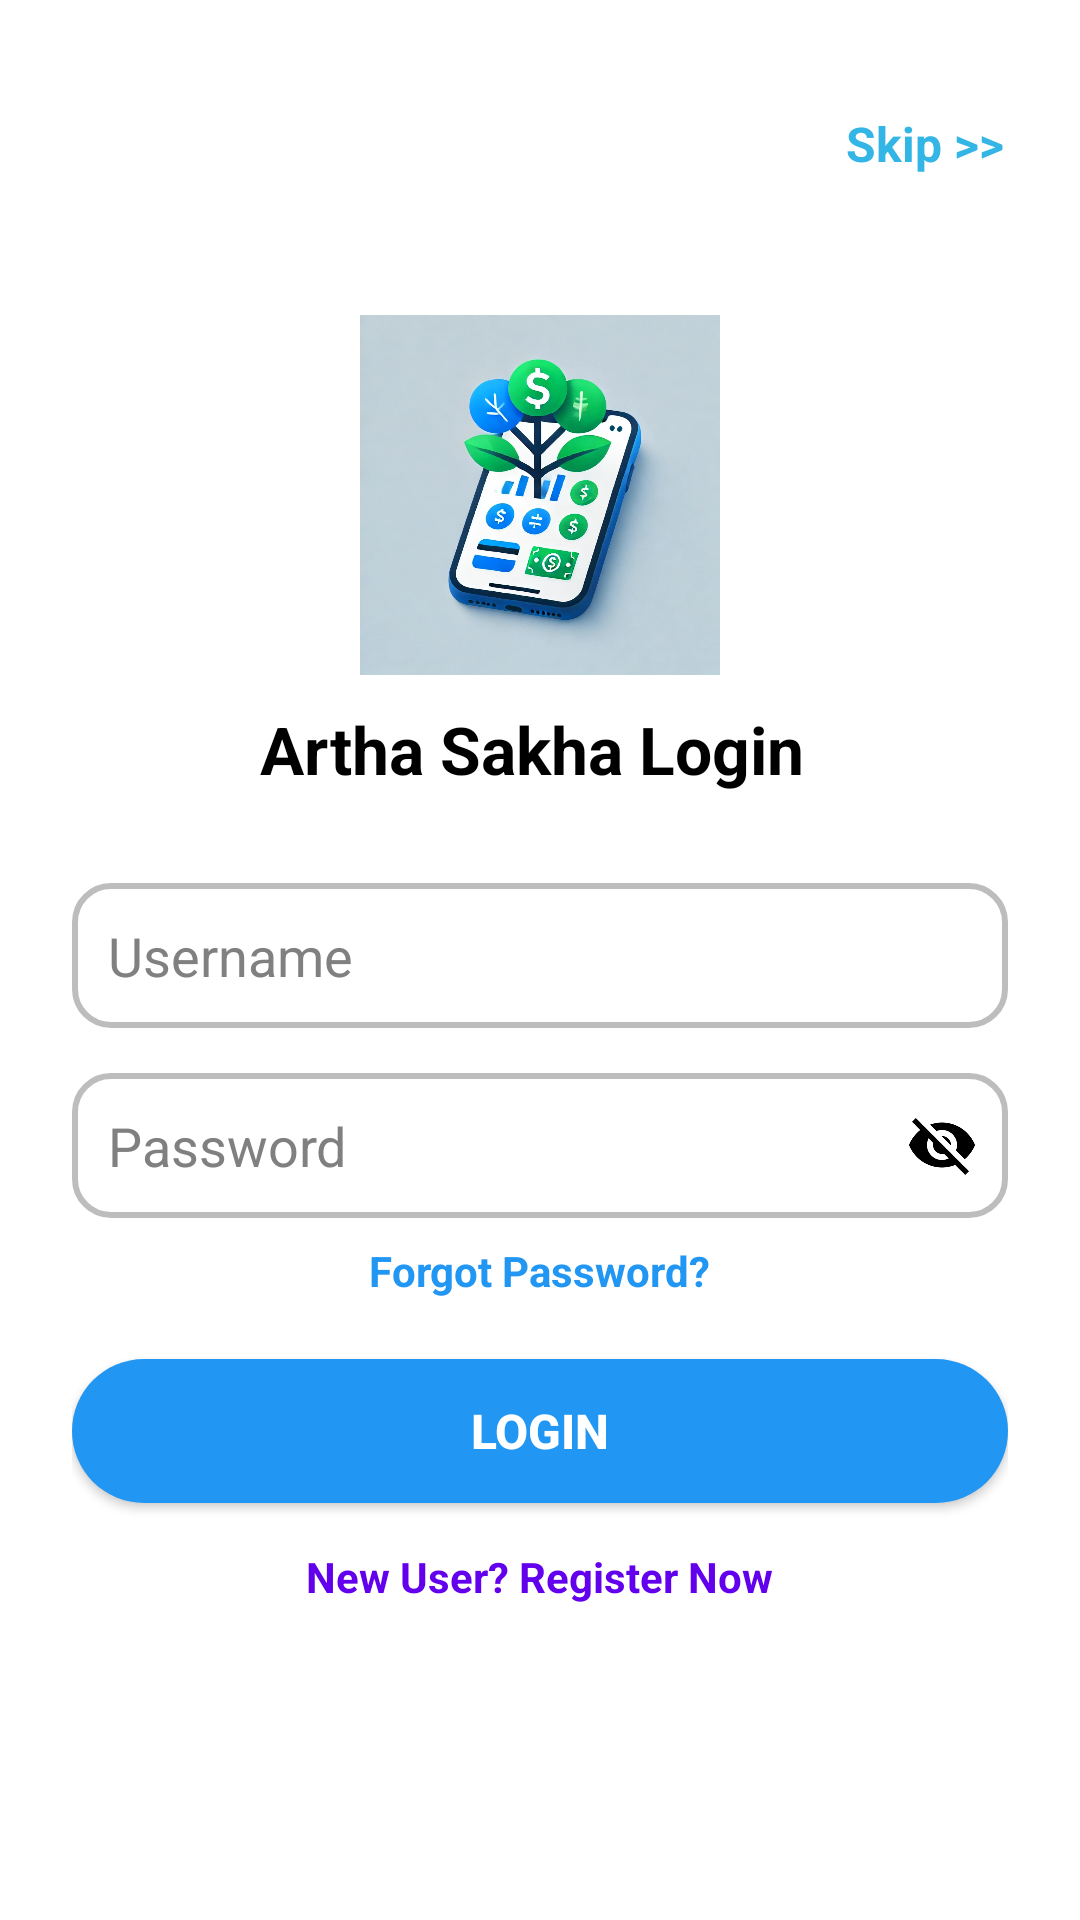

Point at icon controls on the screen. Image size 1080x1920, points as [x,y].
visibility off: [942,1146]
